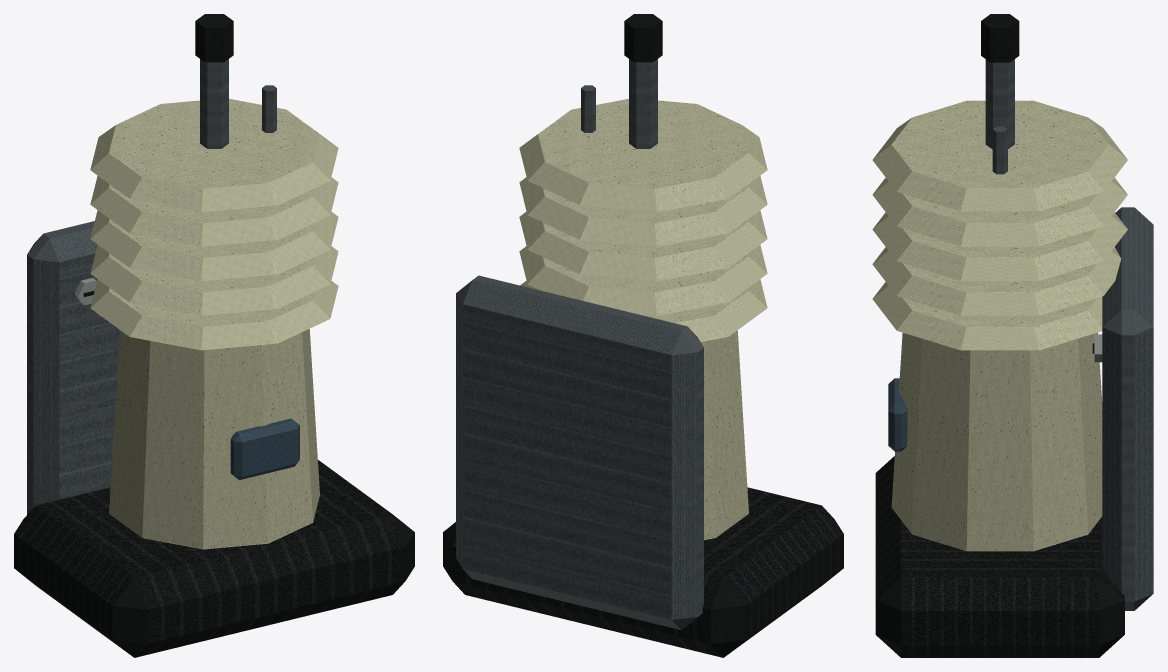
File: blender_thermal_beacon_2_node.glb
3 views of the same model, side by side, from view 1: azimuth 30°, elevation 25°; view 2: azimuth 150°, elevation 25°; view 3: azimuth 270°, elevation 25° (orthographic).
Visible parts, largest first — view 1: blender_thermal_beacon_2_node; view 2: blender_thermal_beacon_2_node; view 3: blender_thermal_beacon_2_node.
Part boxes in pixels (x1,y1,x2,y2): blender_thermal_beacon_2_node: (14,14,414,657); blender_thermal_beacon_2_node: (443,14,843,657); blender_thermal_beacon_2_node: (872,14,1153,657).
Bounding box in the file's own units: 0.055 × 0.099 × 0.044.
5 materials, 5 textured.
